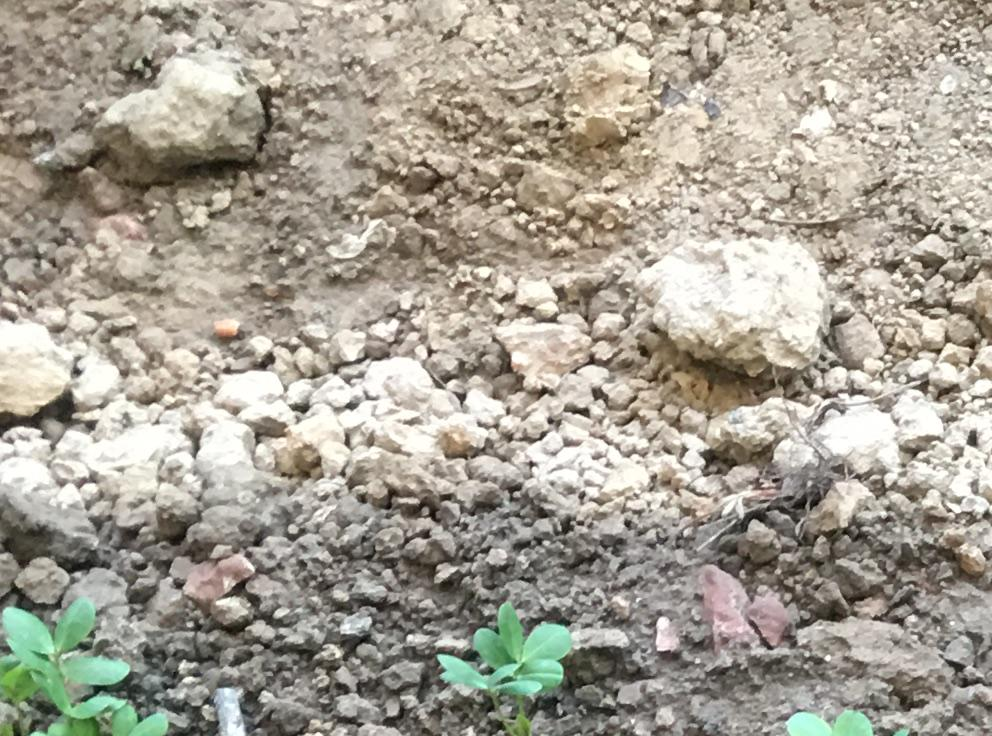block: (636, 238, 831, 375), (92, 50, 266, 174), (1, 479, 91, 559), (1, 325, 70, 418)
